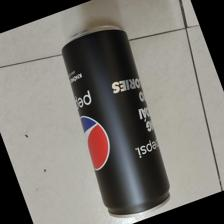Pepsi: (57, 24, 172, 220)
